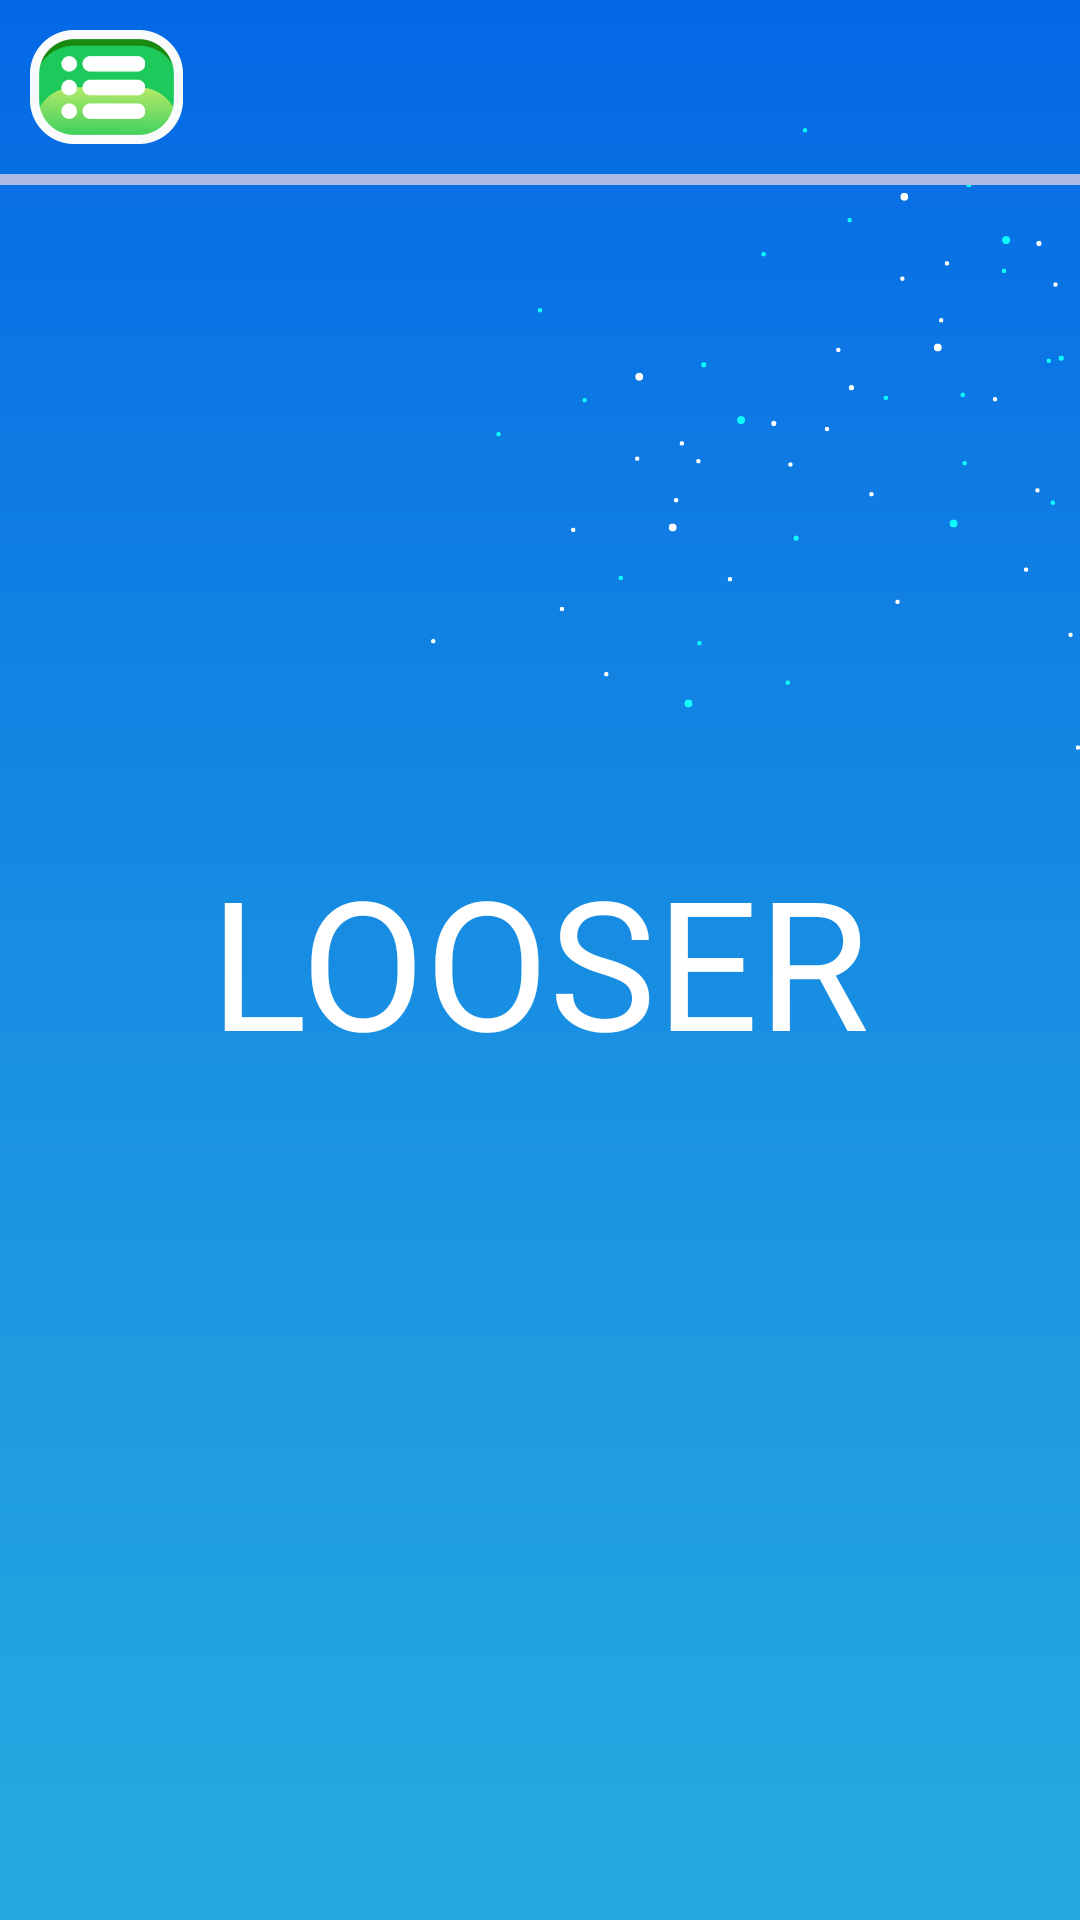

Where icons sit on this 1080 x 1920 app screen, as (x1, y1, x2, y2):
menu: (30, 30, 183, 144)
